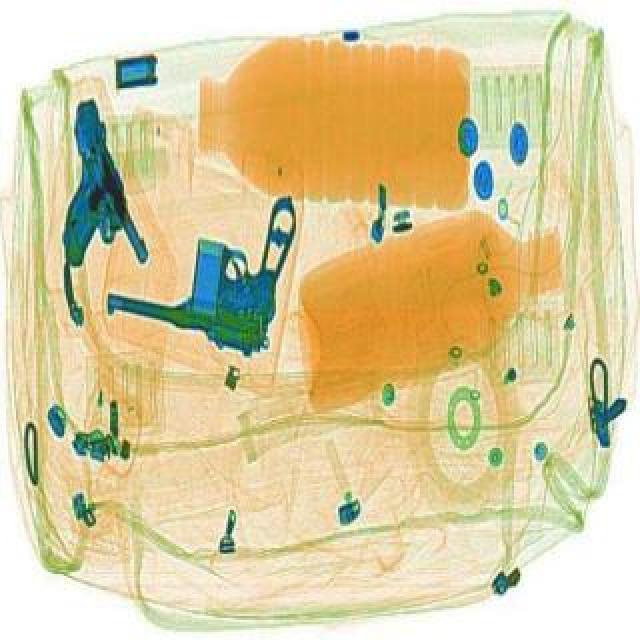gun: (102, 158, 320, 362), (8, 96, 164, 286)
